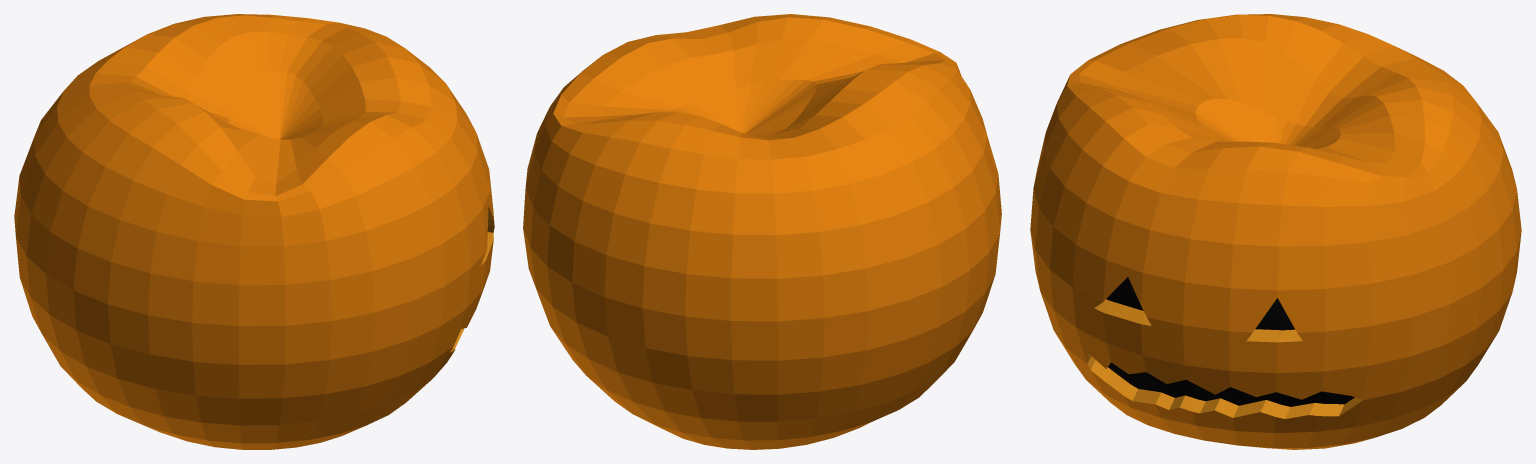
Rendered from apple's punkin.fbx.
The picture shows the model from 3 angles, left to right: view 1: azimuth 30°, elevation 25°; view 2: azimuth 150°, elevation 25°; view 3: azimuth 270°, elevation 25°; orthographic projection. The views are drawn at different scales.
Visible parts, largest first — view 1: Sphere; view 2: Sphere; view 3: Sphere.
Boxes of the visible parts, x1,y1,x2,y2 form: Sphere: (14, 14, 494, 449); Sphere: (523, 14, 1001, 449); Sphere: (1030, 14, 1521, 449).
Size of the model in its own units: 200 by 152 by 201.
